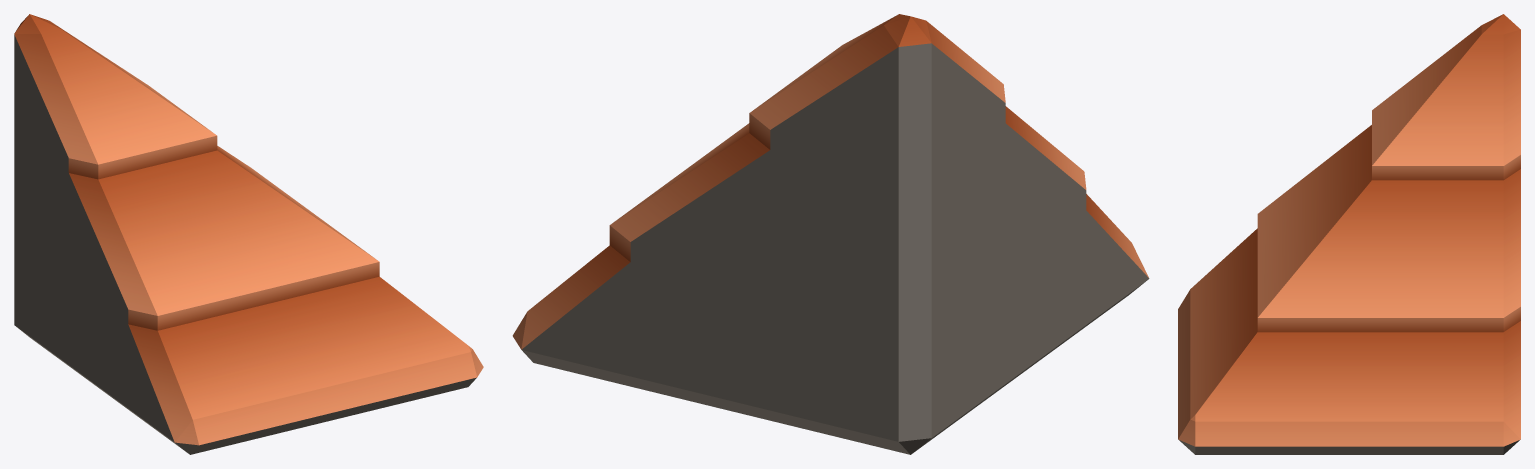
File: m_kub_roofClay_cornerOut.FBX
3 views of the same model, side by side, from view 1: azimuth 30°, elevation 25°; view 2: azimuth 150°, elevation 25°; view 3: azimuth 270°, elevation 25° (orthographic). The views are drawn at different scales.
Parts seen in each view (by area): view 1: m_kub_roofClay_cornerOut; view 2: m_kub_roofClay_cornerOut; view 3: m_kub_roofClay_cornerOut.
Boxes of the visible parts, x1,y1,x2,y2 form: m_kub_roofClay_cornerOut: (14, 14, 483, 454); m_kub_roofClay_cornerOut: (512, 14, 1149, 454); m_kub_roofClay_cornerOut: (1178, 14, 1520, 454).
Size of the model in its own units: 2 by 2 by 2.
